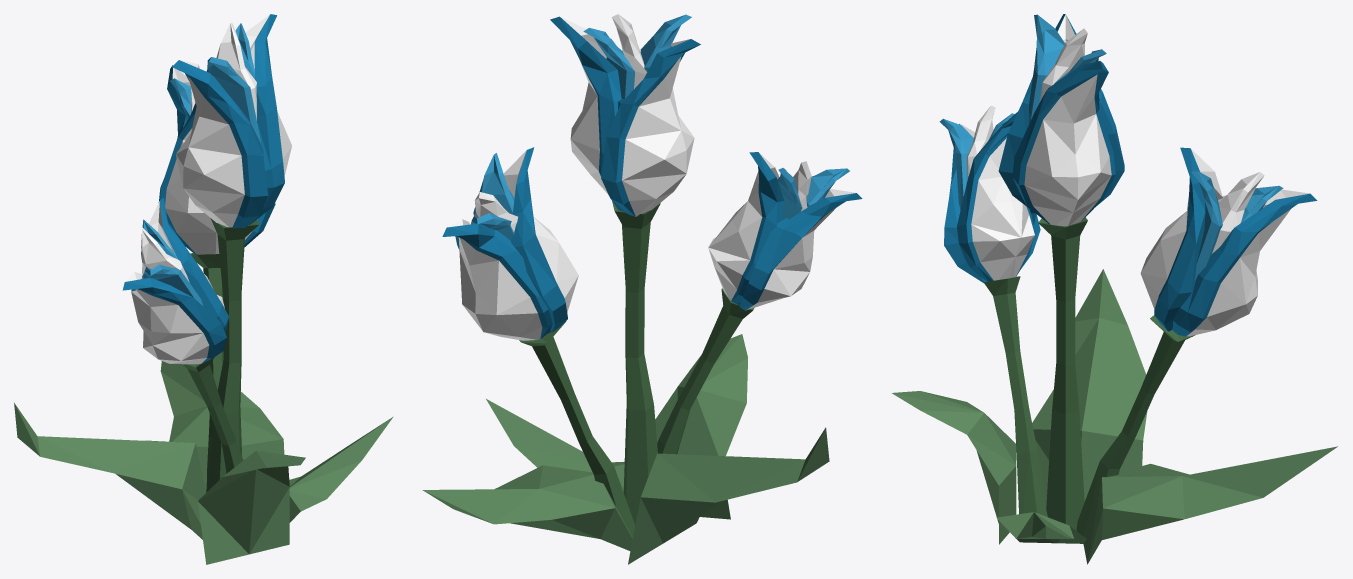
File: _flower_4.glb
3 views of the same model, side by side, from view 1: azimuth 30°, elevation 25°; view 2: azimuth 150°, elevation 25°; view 3: azimuth 270°, elevation 25° (orthographic). The views are drawn at different scales.
Visible parts, largest first — view 1: flower_4; view 2: flower_4; view 3: flower_4.
Part boxes in pixels (left/top/right/bottom): flower_4: left=14, top=14, right=393, bottom=564; flower_4: left=422, top=14, right=862, bottom=564; flower_4: left=892, top=14, right=1337, bottom=564.
Bounding box in the file's own units: 0.6512 × 0.876 × 0.6996.
1 material, 1 textured.
